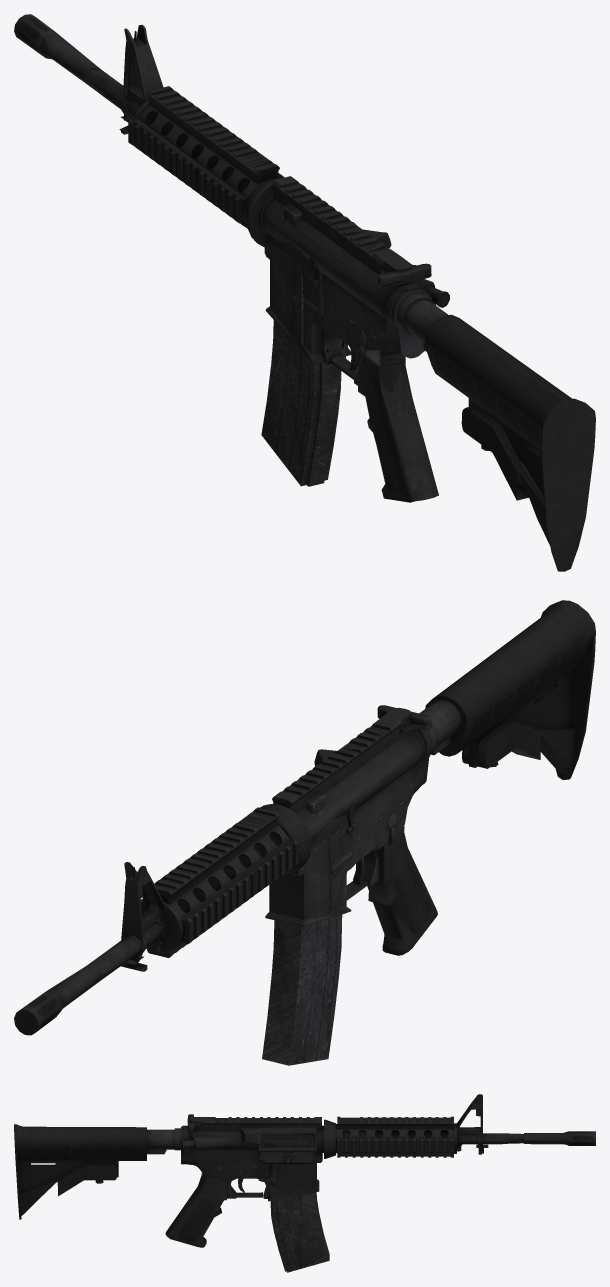
File: Colt.fbx
3 renders of one model, top to bottom at view 1: azimuth 30°, elevation 25°; view 2: azimuth 150°, elevation 25°; view 3: azimuth 270°, elevation 25°, orthographic. The views are drawn at different scales.
Parts seen in each view (by area): view 1: Body, Clip; view 2: Body, Clip; view 3: Body, Clip, EmptyShell.
Boxes of the visible parts, bbox=[...] form: Body: bbox=[14, 14, 595, 571]; Clip: bbox=[261, 320, 341, 486]; Body: bbox=[14, 600, 595, 1035]; Clip: bbox=[262, 914, 342, 1065]; Body: bbox=[14, 1094, 595, 1247]; Clip: bbox=[270, 1192, 329, 1272]; EmptyShell: bbox=[262, 1136, 312, 1146].
Bounding box in the file's own units: 7.74 × 34.43 × 105.
1 material, 1 textured.
